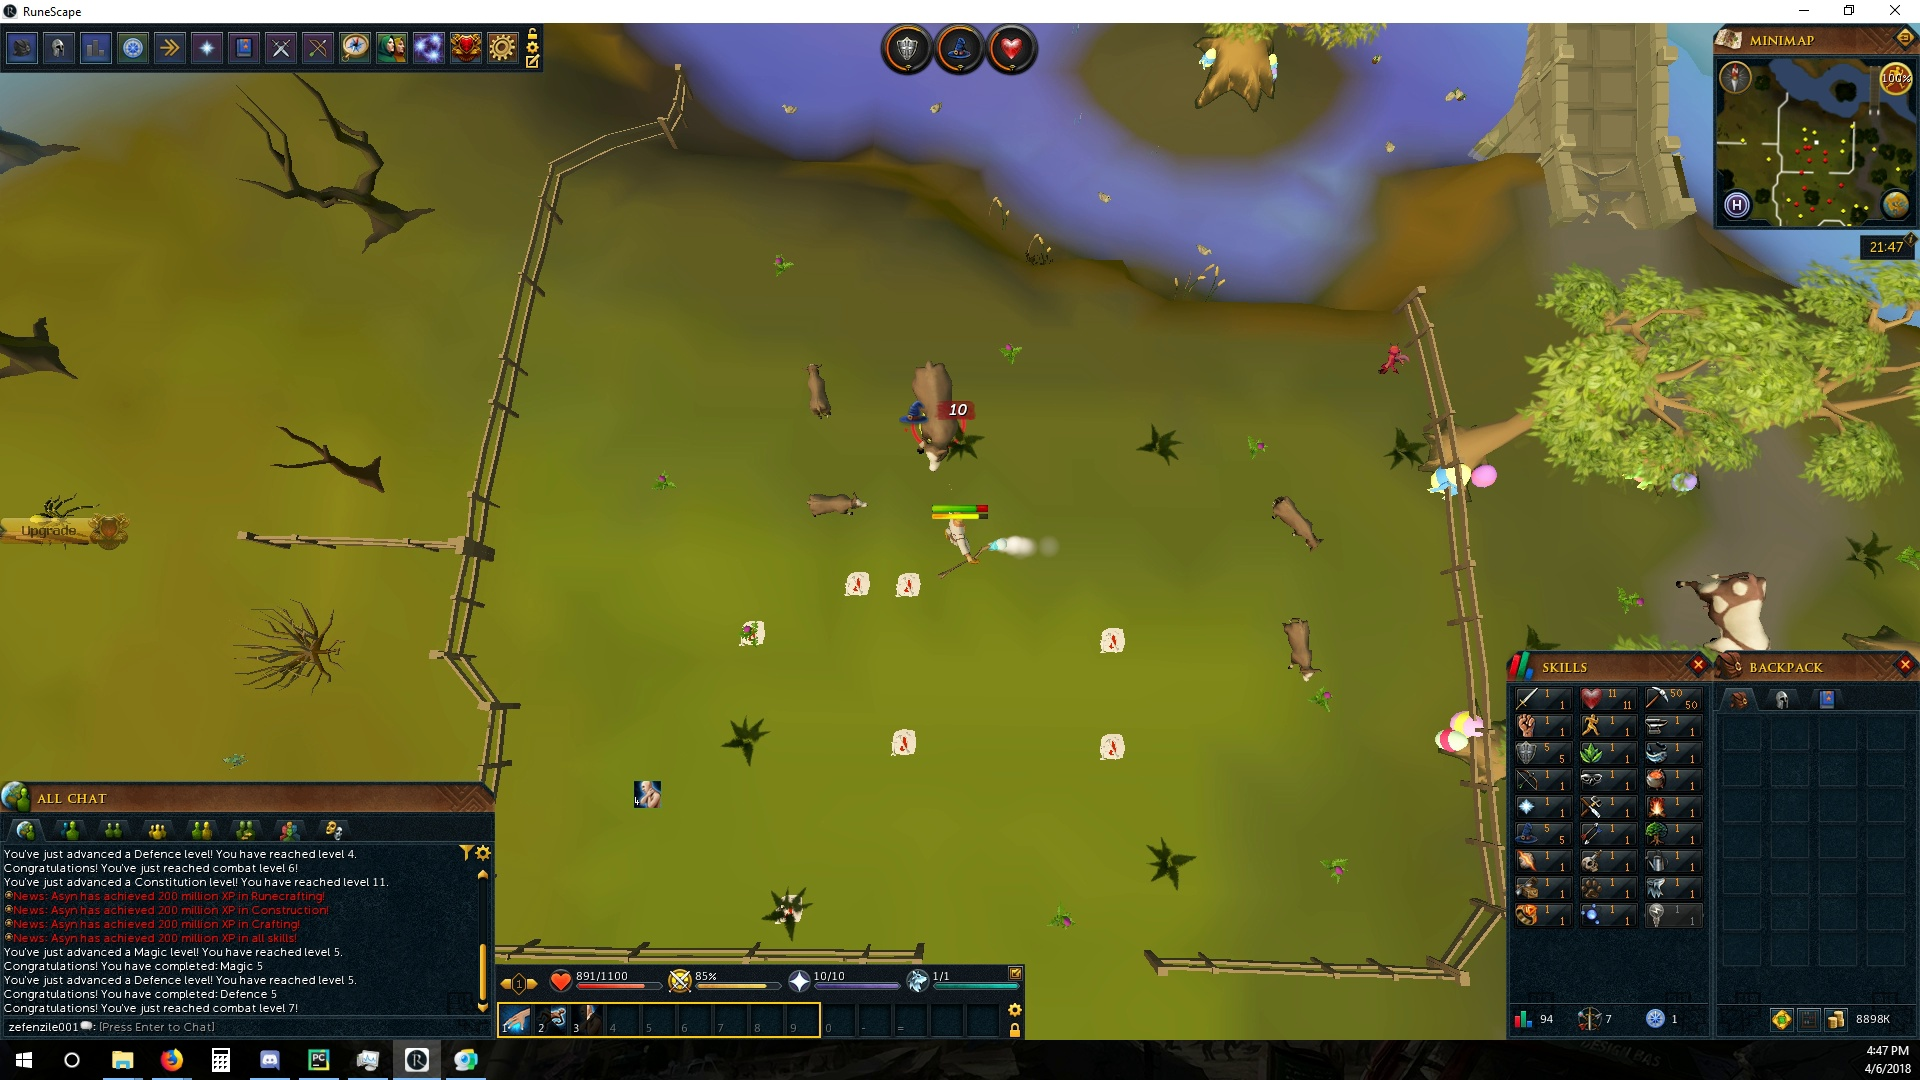calf: (1270, 491, 1328, 556), (1284, 613, 1321, 686), (803, 357, 836, 421), (806, 489, 873, 520)
cow: (1671, 570, 1775, 650), (905, 361, 960, 473)
cow_drop: (837, 568, 874, 600), (1092, 733, 1127, 764), (736, 617, 767, 647), (887, 728, 919, 758), (1095, 626, 1127, 654), (895, 570, 920, 597)
